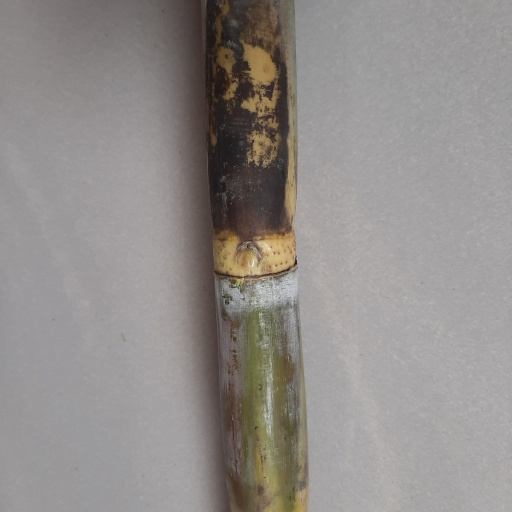Bud: (232, 246, 262, 277)
